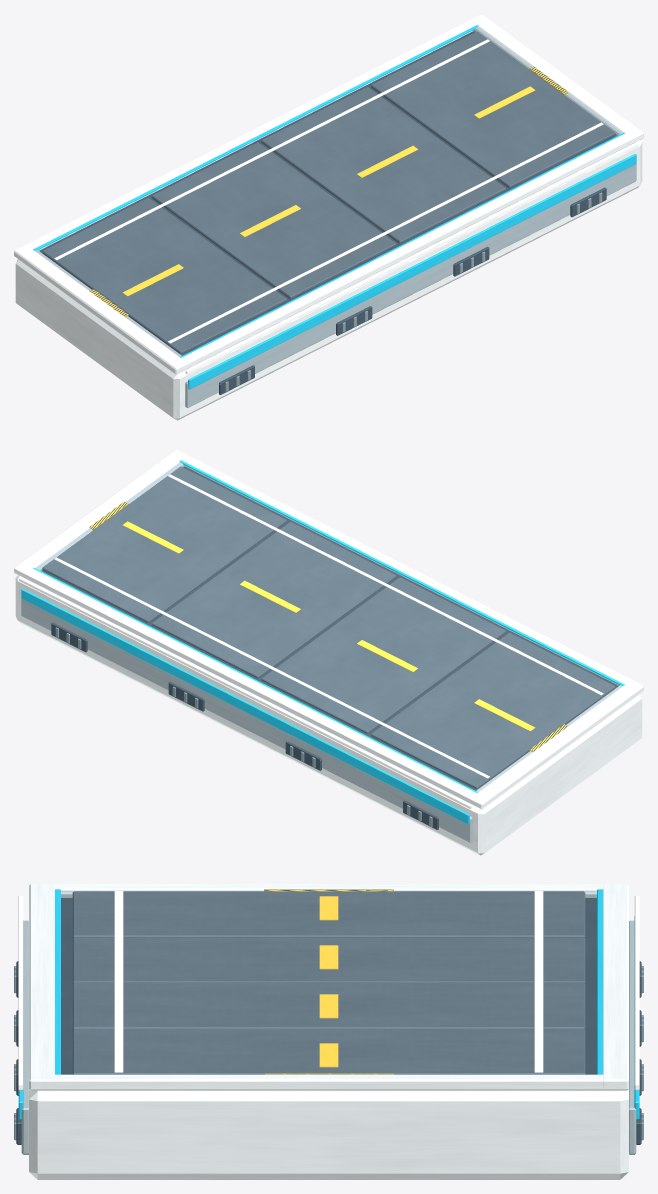
The model's file is ramp-road-4m.glb.
3 views of the same model, one above another, from view 1: azimuth 30°, elevation 25°; view 2: azimuth 150°, elevation 25°; view 3: azimuth 270°, elevation 25° (orthographic). The views are drawn at different scales.
Parts seen in each view (by area): view 1: ramp-road-4m; view 2: ramp-road-4m; view 3: ramp-road-4m.
Part boxes in pixels (x1=…): ramp-road-4m: x1=14, y1=14, x2=643, y2=420; ramp-road-4m: x1=14, y1=449, x2=643, y2=855; ramp-road-4m: x1=14, y1=884, x2=643, y2=1179.
Bounding box in the file's own units: 4 × 1.44 × 2.52.
Materials: 1 (1 with a texture image).
